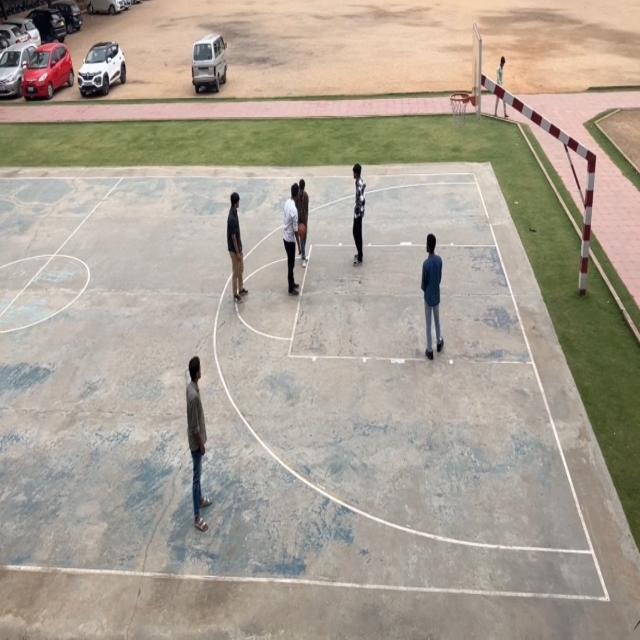basketball: (297, 218, 308, 242)
hoop: (449, 88, 470, 130)
